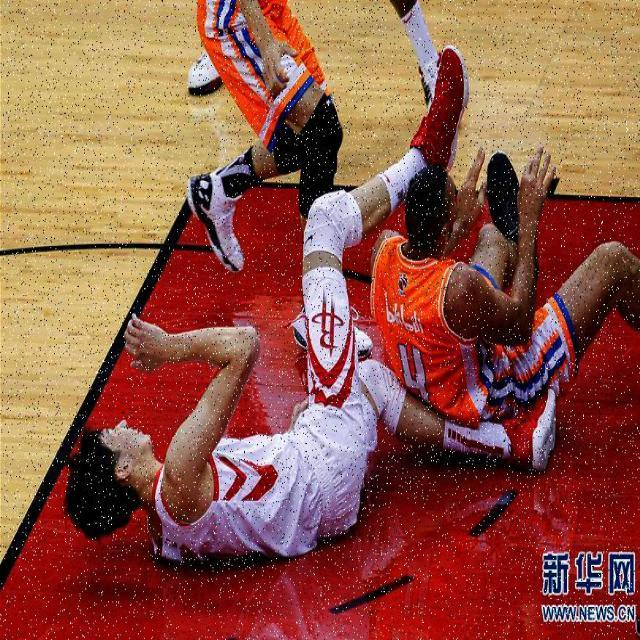fall: (73, 208, 370, 564), (390, 166, 640, 419)
